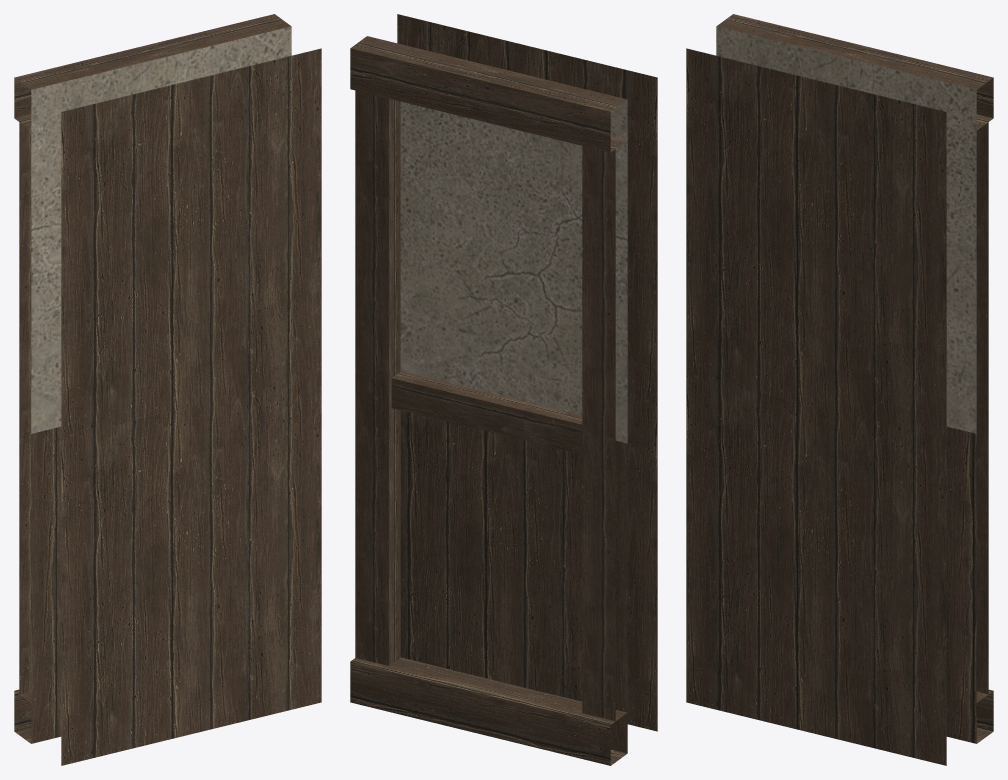
The model's file is ARC1010313.fbx.
3 renders of one model, left to right at view 1: azimuth 30°, elevation 25°; view 2: azimuth 150°, elevation 25°; view 3: azimuth 330°, elevation 25°, orthographic.
Parts seen in each view (by area): view 1: smARC1010313; view 2: smARC1010313; view 3: smARC1010313.
Boxes of the visible parts, box(x1,y1,x2,y2) form: smARC1010313: box(14, 14, 321, 765); smARC1010313: box(350, 14, 657, 765); smARC1010313: box(686, 14, 993, 765).
Bounding box in the file's own units: 112 × 268 × 34.9.
1 material, 1 textured.
